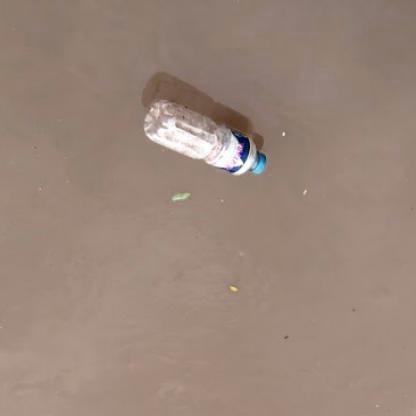Plastic: (138, 92, 273, 179)
